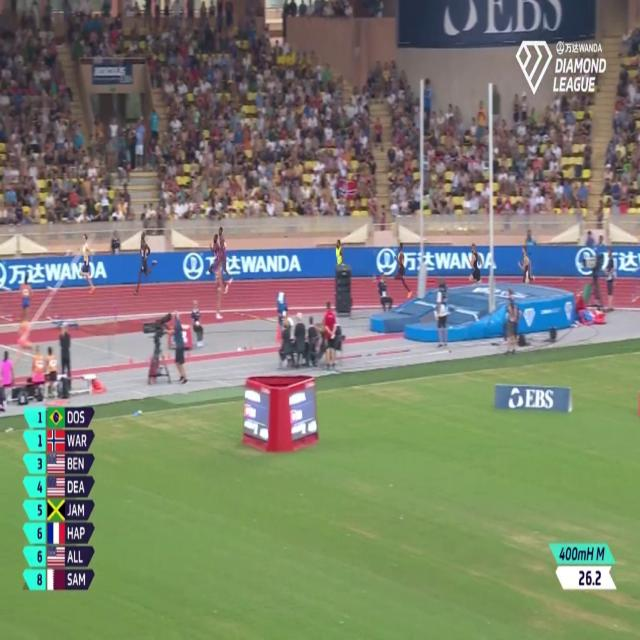athlete: (132, 231, 156, 295), (77, 229, 99, 295), (209, 234, 229, 299), (394, 234, 414, 299), (216, 222, 234, 288), (516, 241, 536, 287), (466, 241, 482, 289), (334, 239, 345, 284)
hurdle: (41, 280, 61, 328), (0, 284, 14, 323)
